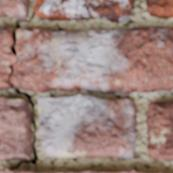brick: (38, 95, 136, 157), (35, 0, 134, 22), (0, 98, 30, 160), (147, 102, 172, 160), (0, 0, 28, 17), (147, 0, 172, 17), (0, 170, 30, 172), (119, 171, 137, 172)
broken_brick: (12, 26, 172, 94), (0, 25, 12, 90)
crack: (0, 2, 38, 170)
